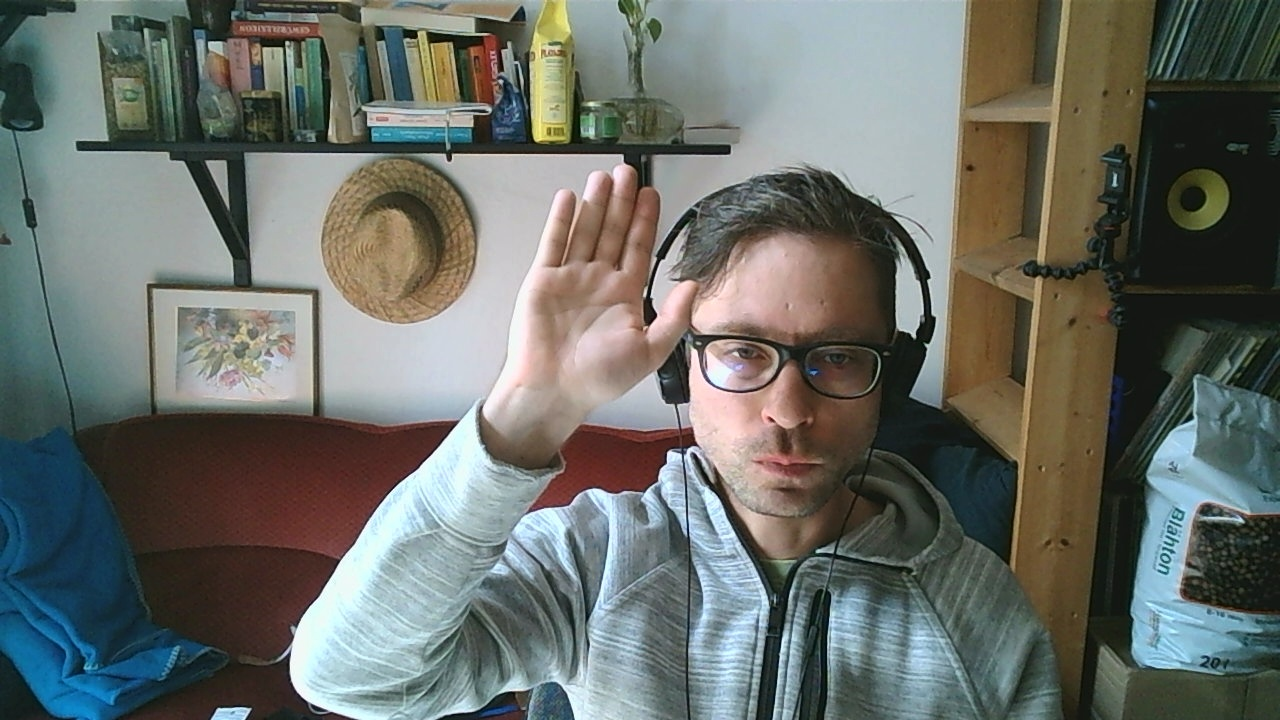hello: (503, 164, 701, 420)
